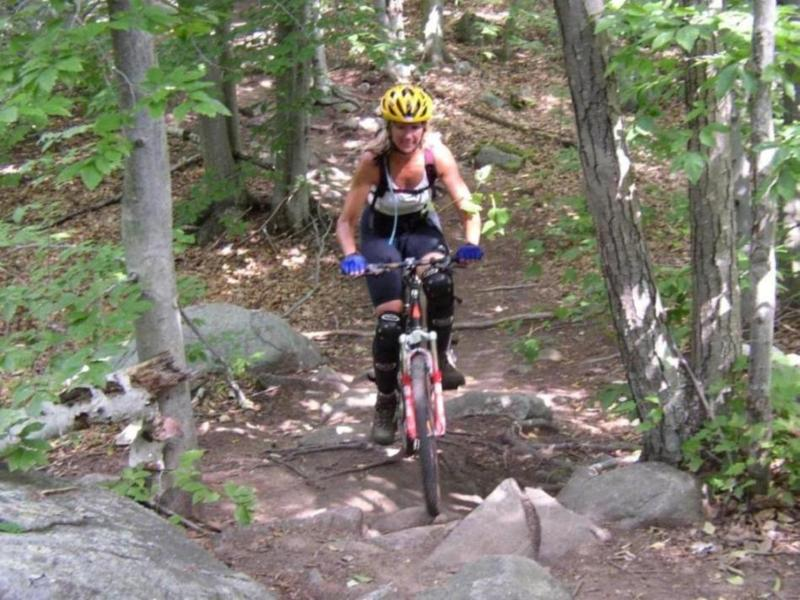person: (339, 82, 486, 448)
